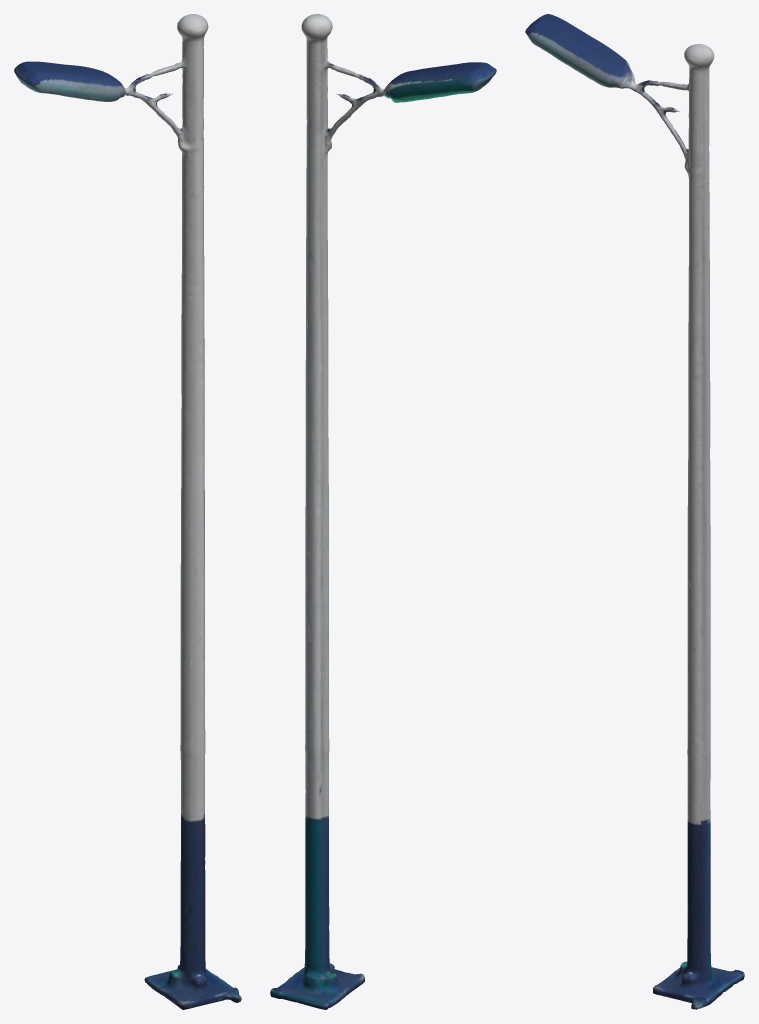
The model's file is streetlamp.glb.
3 views of the same model, side by side, from view 1: azimuth 30°, elevation 25°; view 2: azimuth 150°, elevation 25°; view 3: azimuth 330°, elevation 25° (orthographic). The views are drawn at different scales.
Visible parts, largest first — view 1: Mesh_0; view 2: Mesh_0; view 3: Mesh_0.
Part boxes in pixels (bbox=[...]): Mesh_0: bbox=[14, 14, 241, 1009]; Mesh_0: bbox=[270, 14, 496, 1009]; Mesh_0: bbox=[525, 14, 744, 1009].
Bounding box in the file's own units: 0.4308 × 2 × 0.1767.
Materials: 1 (1 with a texture image).
